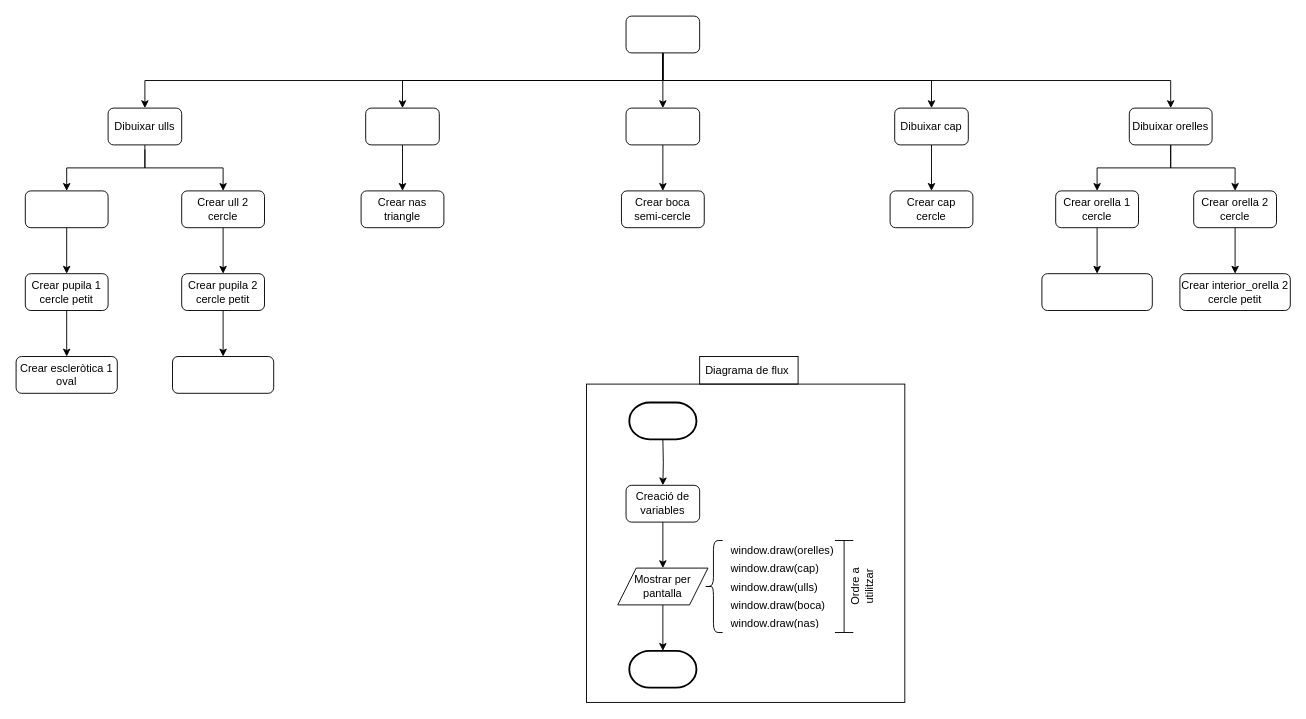
Some shapes in this 1306 by 719 pixel diagram are drawn without their labels. Here are the shapes that lost their labels. From the top down, the box of each, then its label:
(625, 15, 700, 53): MAIN
(365, 107, 439, 145): Dibuixar nas
(625, 107, 700, 145): Dibuixar boca
(24, 190, 108, 228): Crear ull 1 cercle
(1041, 273, 1152, 310): Crear interior_orella 1 cercle petit
(172, 356, 274, 393): Crear escleròtica 2 oval
(628, 401, 697, 440): Inici
(628, 650, 697, 688): Fi
